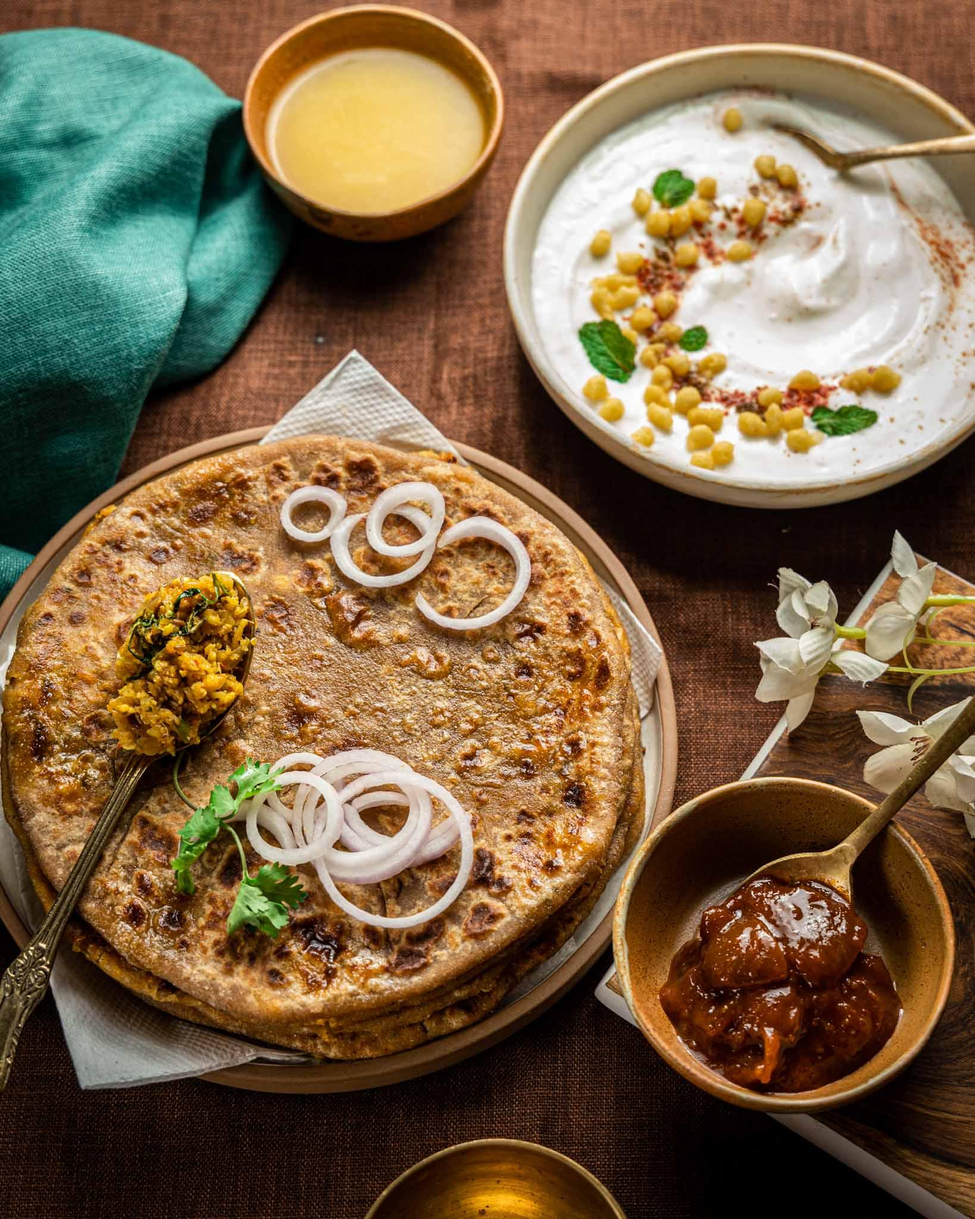paratha: (19, 459, 619, 985)
yogurt: (596, 99, 975, 482)
